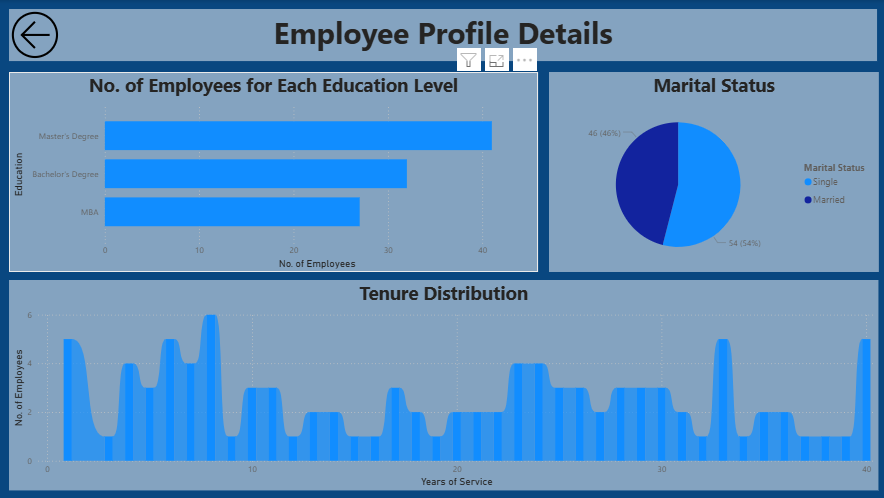

The page's visual inventory and layout, read from the dashboard file:
{"tool":"powerbi","page":{"name":"Employee Profile","canvas":[1280,720],"ordinal":1},"visuals":[{"type":"barChart","title":"No. of Employees for Each Education Level","fields":{"Category":["Sheet1.Education"],"Y":["CountNonNull(Sheet1.Name)"]},"box":[15,103.3,761.7,288.3],"z":0},{"type":"pieChart","title":"Marital Status","fields":{"Category":["Sheet1.Marital Status"],"Y":["CountNonNull(Sheet1.Name)"]},"box":[791.7,103.3,475,288.3],"z":1000},{"type":"ribbonChart","title":"Tenure Distribution","fields":{"Category":["Sheet1.Years of Service"],"Y":["CountNonNull(Sheet1.Name)"]},"box":[15,403.3,1251.7,303.3],"z":2000},{"type":"textbox","box":[15,13.3,1250,75],"z":3000},{"type":"actionButton","box":[10,8.3,170,83.3],"z":4000}]}

Visuals, with their boxes in screenshot pixels (x1, y1, x2, y2), scaled from the page's 1280x720 canvas onto the 884x498 screenshot:
"No. of Employees for Each Education Level" barChart: 10:71:536:271
"Marital Status" pieChart: 547:71:875:271
"Tenure Distribution" ribbonChart: 10:279:875:489
textbox: 10:9:874:61
actionButton: 7:6:124:63
